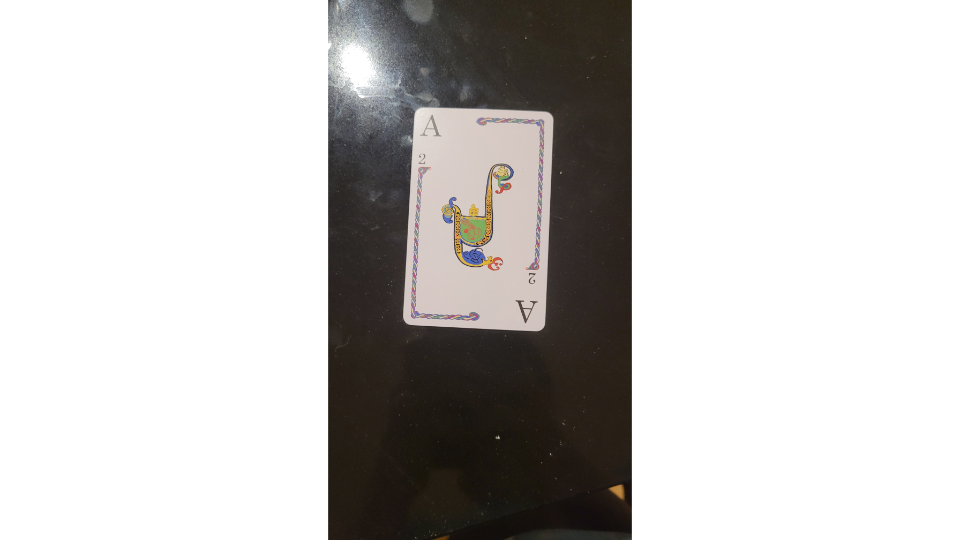A: (400, 103, 557, 336)
